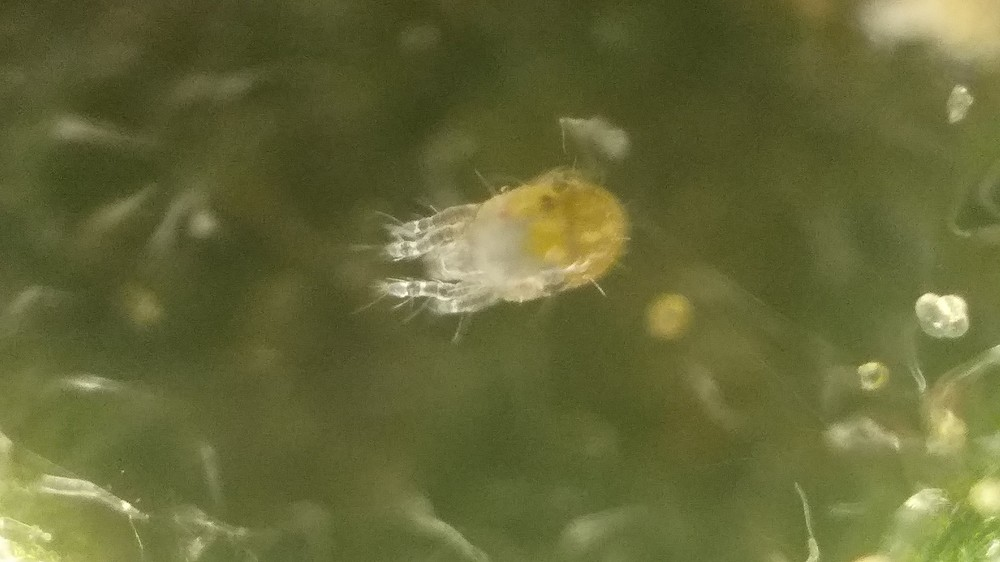Aracnido Rojo: (342, 144, 673, 376)
